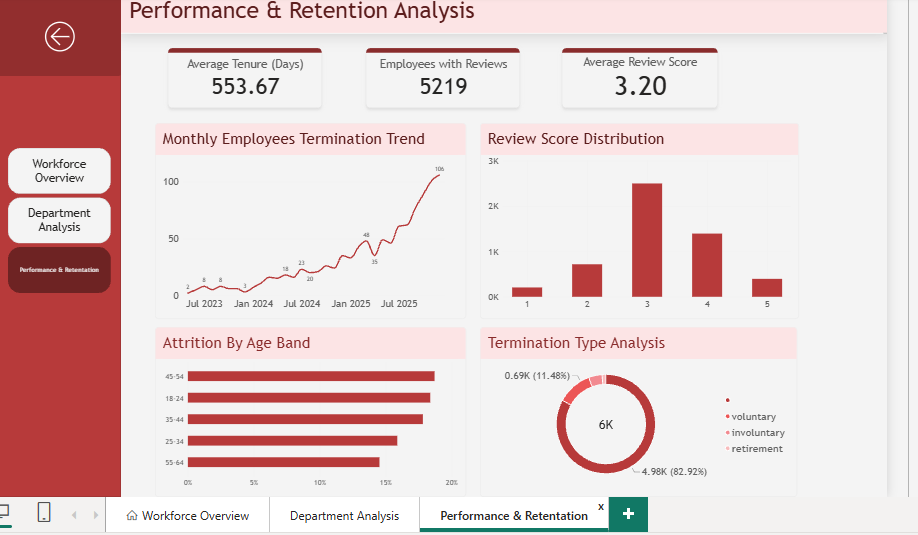

This screenshot's page, from the dashboard's own definition file:
{"tool":"powerbi","page":{"name":"Performance & Retentation","canvas":[1920,1080],"ordinal":2},"visuals":[{"type":"textbox","title":"Performance & Retention Analysis","box":[261.4,0,1656.7,79.9],"z":0},{"type":"lineChart","title":"Monthly Employees Termination Trend","fields":{"Category":["Employee Snapshot.ended_at.Variation.Date Hierarchy.Year","Employee Snapshot.ended_at.Variation.Date Hierarchy.Quarter","Employee Snapshot.ended_at.Variation.Date Hierarchy.Month","Employee Snapshot.ended_at.Variation.Date Hierarchy.Day"],"Y":["Employee Snapshot.Former Employees"]},"box":[337,272.2,671.8,423.4],"z":1000},{"type":"clusteredColumnChart","title":"Review Score Distribution ","fields":{"Category":["Employee Snapshot.latest_review_score"],"Y":["CountNonNull(Employee Snapshot.employee_id)"]},"box":[1039,272.2,689,423.4],"z":2000},{"type":"shape","box":[0,0,263.5,1080],"z":3000},{"type":"clusteredBarChart","title":"Attrition By Age Band","fields":{"Category":["Employee Snapshot.age_band"],"Y":["Employee Snapshot.Attrition Rate"]},"box":[337,712.8,671.8,367.2],"z":4000},{"type":"donutChart","title":"Termination Type Analysis","fields":{"Category":["Employee Snapshot.termination_type"],"Y":["CountNonNull(Employee Snapshot.employee_id)"]},"box":[1039,712.8,684.7,367.2],"z":5000},{"type":"cardVisual","fields":{"Data":["Employee Snapshot.Average Review Score"]},"box":[1205.3,99.4,358.6,151.2],"z":6000},{"type":"cardVisual","fields":{"Data":["Employee Snapshot.Employees with Reviews"]},"box":[781.9,99.4,354.2,151.2],"z":7000},{"type":"cardVisual","fields":{"Data":["Employee Snapshot.Average Tenure (Days)"]},"box":[354.2,99.4,354.2,151.2],"z":8000},{"type":"textbox","box":[1564,99,354,151],"z":9000},{"type":"pageNavigator","box":[19.4,326.2,222.5,315.4],"z":10000},{"type":"actionButton","box":[0,0,263.5,170.6],"z":11000}]}

Visuals, with their boxes on the page's 1920x1080 design canvas (x1, y1, x2, y2). These are canvas units, not pixel positions in the 918x535 screenshot, which may show the page scaled, cropped or inside an application window:
"Performance & Retention Analysis" textbox: Rect(261, 0, 1918, 80)
"Monthly Employees Termination Trend" lineChart: Rect(337, 272, 1009, 696)
"Review Score Distribution " clusteredColumnChart: Rect(1039, 272, 1728, 696)
shape: Rect(0, 0, 264, 1080)
"Attrition By Age Band" clusteredBarChart: Rect(337, 713, 1009, 1080)
"Termination Type Analysis" donutChart: Rect(1039, 713, 1724, 1080)
cardVisual - Employee Snapshot.Average Review Score: Rect(1205, 99, 1564, 251)
cardVisual - Employee Snapshot.Employees with Reviews: Rect(782, 99, 1136, 251)
cardVisual - Employee Snapshot.Average Tenure (Days): Rect(354, 99, 708, 251)
textbox: Rect(1564, 99, 1918, 250)
pageNavigator: Rect(19, 326, 242, 642)
actionButton: Rect(0, 0, 264, 171)
